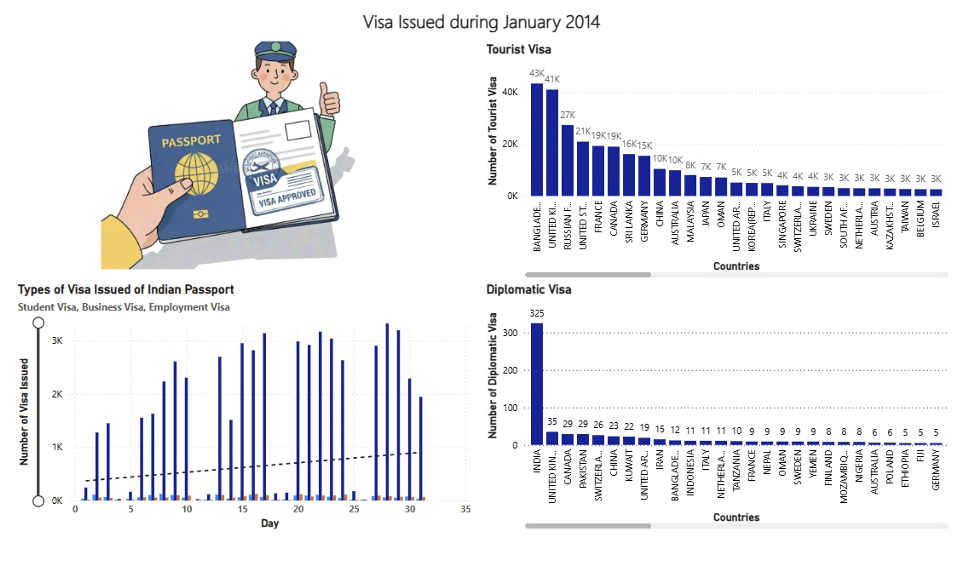

What the dashboard file says about the page in this screenshot:
{"tool":"powerbi","page":{"name":"Visa ","canvas":[1280,720],"ordinal":0},"visuals":[{"type":"clusteredColumnChart","title":"Diplomatic Visa","fields":{"Category":["ndsap_visa_info_JAN_2014.COUNTRY"],"Y":["Sum(ndsap_visa_info_JAN_2014.DIPLOMATIC_VISA_IN_NO)"]},"box":[641.4,371.4,630,337.1],"z":0},{"type":"lineClusteredColumnComboChart","title":"Types of Visa Issued of Indian Passport","fields":{"Category":["ndsap_visa_info_JAN_2014.VISA_ISSUE_DATE.Variation.Date Hierarchy.Day"],"Y":["Sum(ndsap_visa_info_JAN_2014.STUDENT_VISA_IN_NO)","Sum(ndsap_visa_info_JAN_2014.BUSINESS_VISA_IN_NO)","Sum(ndsap_visa_info_JAN_2014. EMPLOYMENT_VISA_IN_NO)"]},"box":[12.9,371.4,617.1,337.1],"z":1000},{"type":"clusteredColumnChart","title":"Tourist Visa","fields":{"Category":["ndsap_visa_info_JAN_2014.COUNTRY"],"Y":["Sum(ndsap_visa_info_JAN_2014. TOURIST_VISA_IN_NO)"]},"box":[641.4,48.6,630,322.9],"z":3000},{"type":"image","box":[12.9,37.1,617.1,322.9],"z":3001},{"type":"textbox","box":[0,0,1280,48.6],"z":3002}]}

Visuals, with their boxes on the page's 1280x720 design canvas (x1, y1, x2, y2). These are canvas units, not pixel positions in the 967x574 screenshot, which may show the page scaled, cropped or inside an application window:
"Diplomatic Visa" clusteredColumnChart: bbox(641, 371, 1271, 708)
"Types of Visa Issued of Indian Passport" lineClusteredColumnComboChart: bbox(13, 371, 630, 708)
"Tourist Visa" clusteredColumnChart: bbox(641, 49, 1271, 372)
image: bbox(13, 37, 630, 360)
textbox: bbox(0, 0, 1280, 49)
